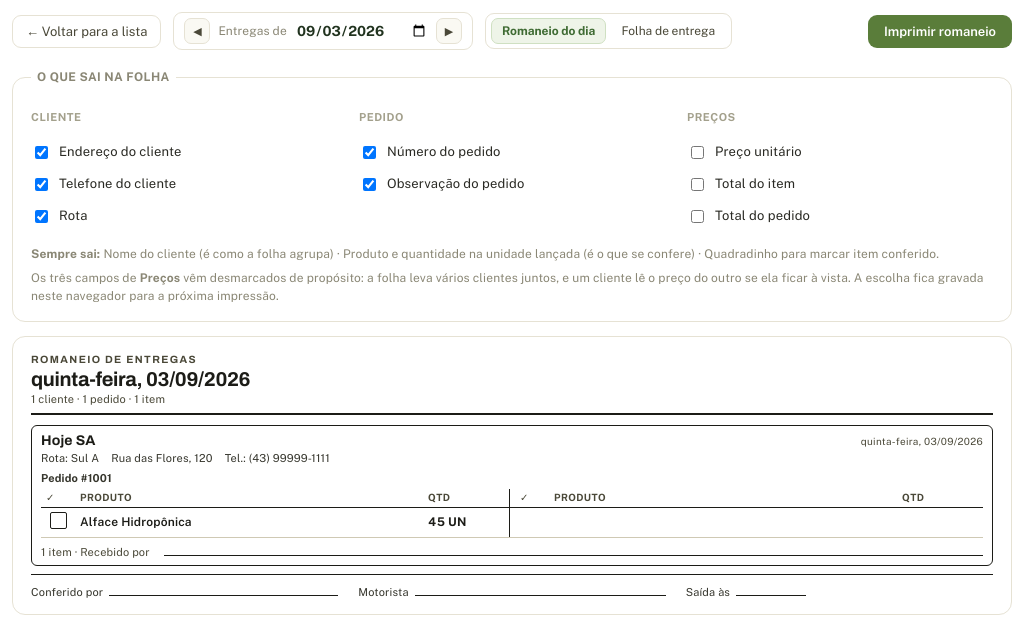
Scenario: RomaneioEntregas — a seleção por dia › um DIA ANTERIOR funciona igual a hoje: mesma folha, mesmos campos
Expected: the text "Hoje SA" is shown, left=41, top=432, right=96, bottom=450
Type "2026-08-24" into the date field labelled "Entregas de". click: (362, 31)
box: left=295, top=22, right=428, bottom=40
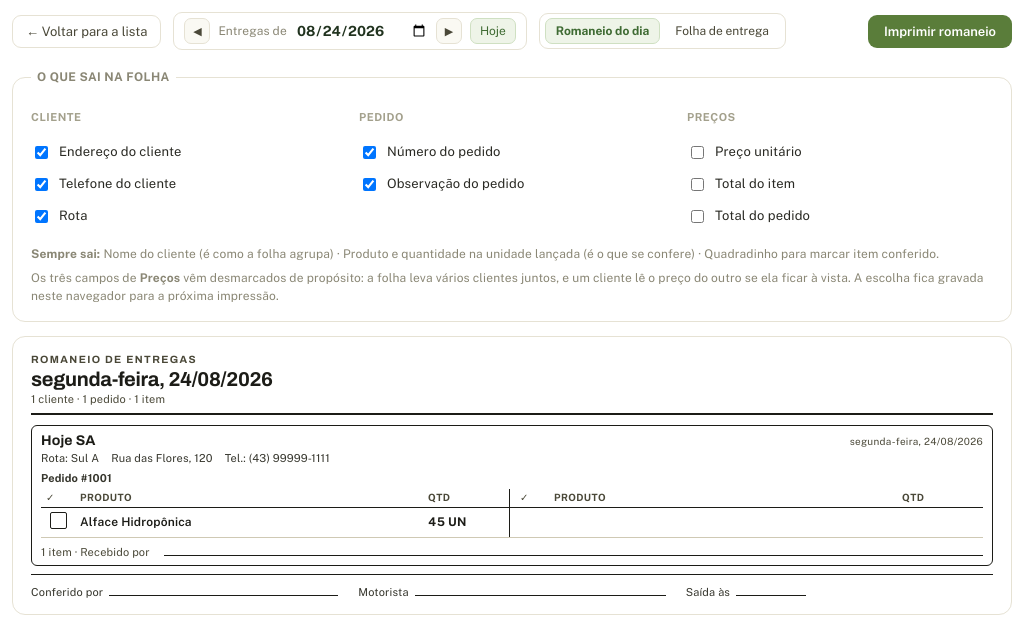
Expected: the element with class "folha" shows "Hoje SA", left=41, top=433, right=96, bottom=448
Expected: the text with class "folha-data" reads "segunda-feira, 24/08/2026", left=31, top=368, right=273, bottom=390
